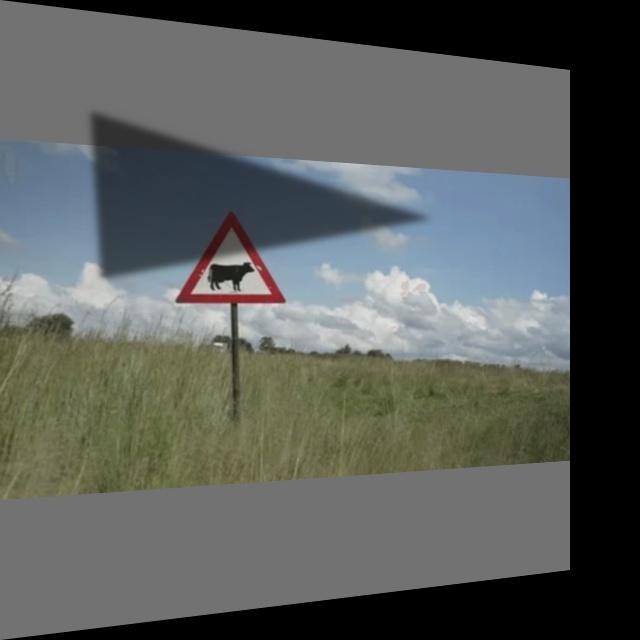Cattle: (181, 212, 283, 307)
